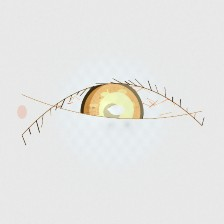corneal_ulcer: (87, 87, 146, 134)
